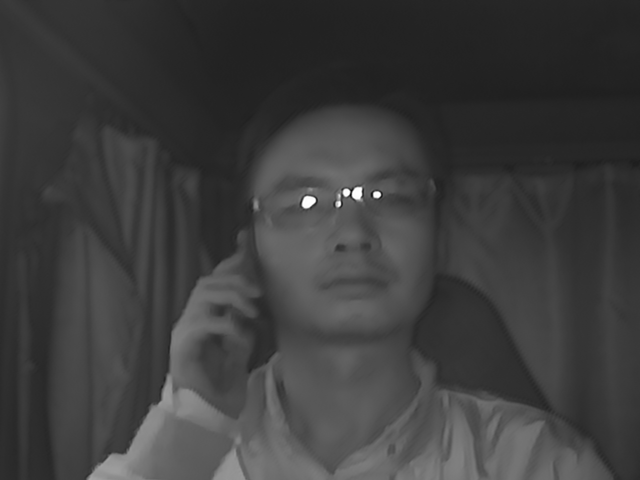hand: (161, 251, 256, 405)
